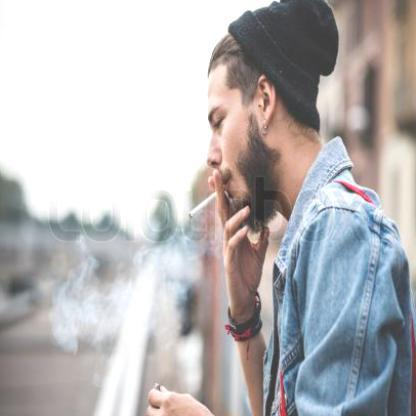cigarette: (189, 191, 219, 221)
person: (201, 0, 415, 415)
smoke: (48, 249, 126, 357), (150, 238, 205, 350)
